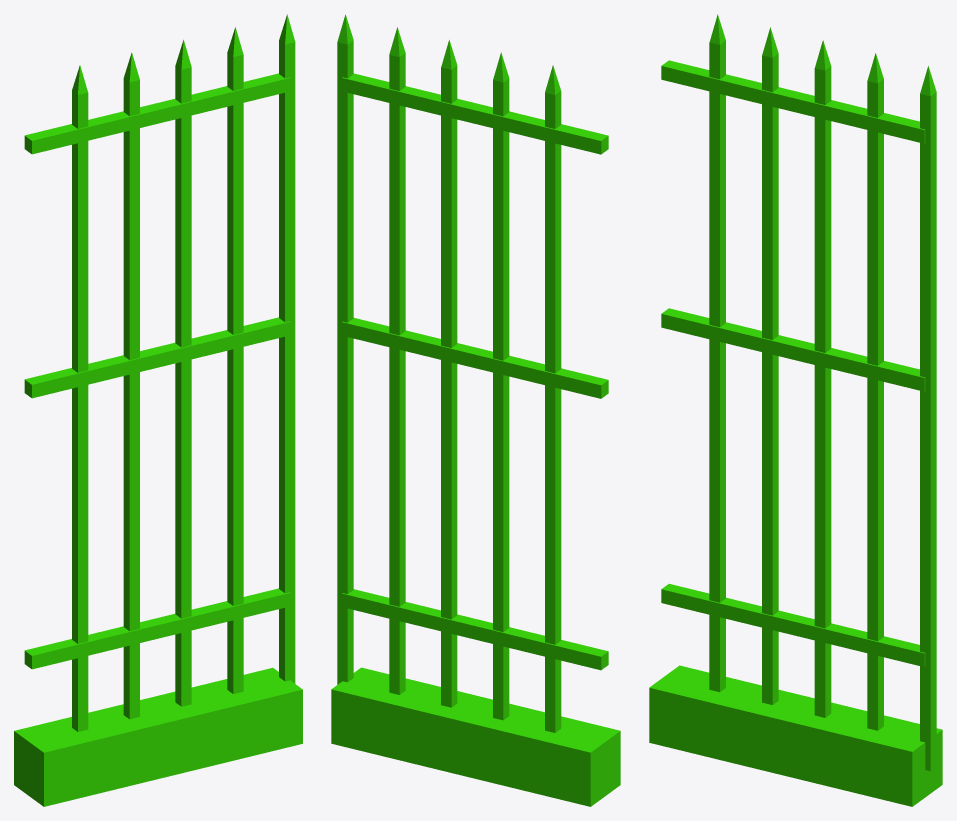
Rendered from fence3_07.fbx.
The picture shows the model from 3 angles, left to right: view 1: azimuth 30°, elevation 25°; view 2: azimuth 150°, elevation 25°; view 3: azimuth 330°, elevation 25°; orthographic projection.
Parts seen in each view (by area): view 1: fence3_07; view 2: fence3_07; view 3: fence3_07.
Boxes of the visible parts, x1=… form: fence3_07: x1=14, y1=14, x2=302, y2=806; fence3_07: x1=331, y1=14, x2=620, y2=806; fence3_07: x1=649, y1=14, x2=942, y2=806.
Bounding box in the file's own units: 102 × 265 × 20.
